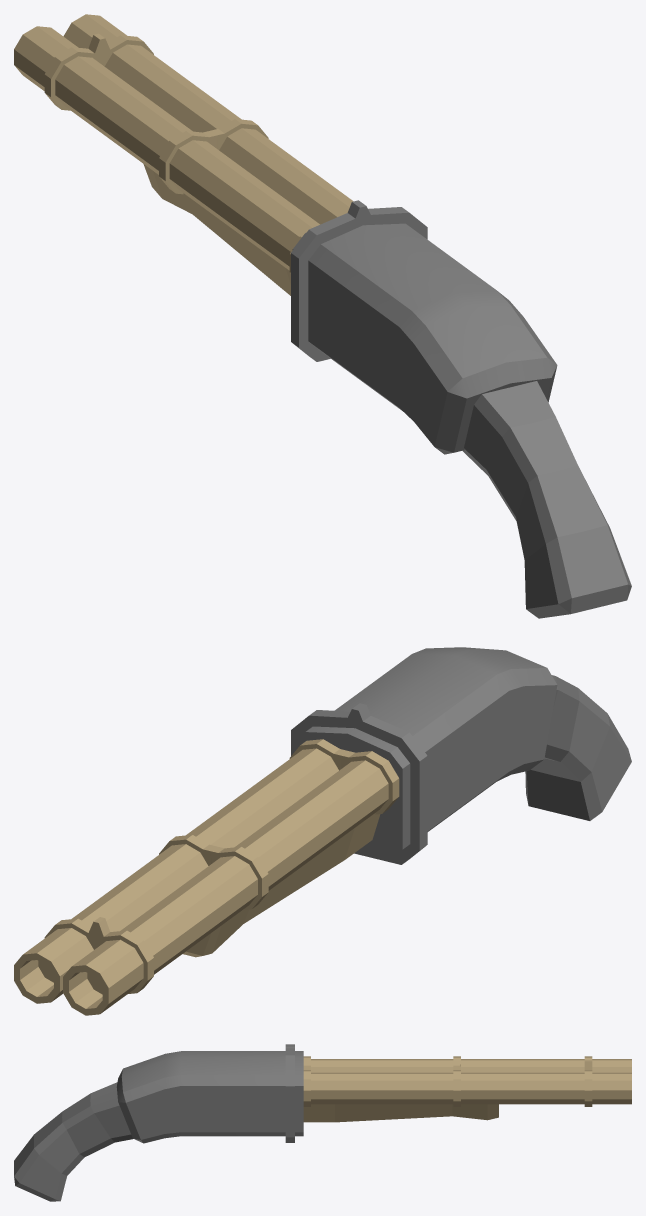
File: Shotgun.fbx
3 views of the same model, one above another, from view 1: azimuth 30°, elevation 25°; view 2: azimuth 150°, elevation 25°; view 3: azimuth 270°, elevation 25° (orthographic). The views are drawn at different scales.
Visible parts, largest first — view 1: Chamber, Barrel; view 2: Barrel, Chamber; view 3: Chamber, Barrel.
Boxes of the visible parts, x1=… form: Chamber: x1=291, y1=200, x2=631, y2=618; Barrel: x1=14, y1=14, x2=353, y2=295; Barrel: x1=14, y1=739, x2=399, y2=1015; Chamber: x1=291, y1=647, x2=631, y2=864; Chamber: x1=14, y1=1044, x2=303, y2=1201; Barrel: x1=303, y1=1056, x2=631, y2=1122.
Size of the model in its own units: 56.83 by 107 by 412.
